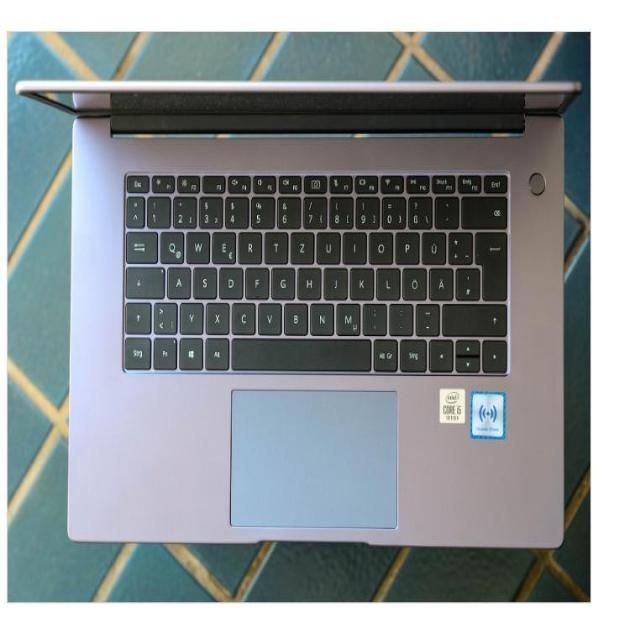0: (380, 192, 404, 226)
1: (145, 192, 169, 225)
2: (170, 192, 195, 225)
3: (196, 192, 221, 226)
4: (223, 193, 247, 225)
5: (249, 193, 273, 226)
6: (275, 193, 299, 226)
7: (301, 193, 325, 226)
8: (327, 192, 351, 226)
9: (353, 192, 378, 226)
a: (165, 263, 189, 296)
accent: (432, 192, 457, 226)
ae: (427, 264, 452, 298)
alt-left: (203, 335, 228, 368)
altgr-right: (372, 335, 397, 369)
b: (282, 300, 307, 333)
c: (230, 298, 255, 333)
caret: (124, 192, 144, 225)
comma: (361, 300, 386, 333)
d: (217, 263, 241, 297)
del: (459, 192, 505, 226)
e: (210, 227, 234, 262)
enter: (473, 228, 506, 299)
f: (244, 264, 267, 296)
g: (269, 264, 293, 297)
h: (295, 263, 320, 297)
hash: (454, 264, 479, 297)
i: (341, 227, 365, 262)
j: (321, 264, 346, 297)
k: (348, 264, 372, 297)
keyboard: (117, 167, 518, 379)
l: (374, 264, 398, 297)
less: (151, 299, 176, 332)
m: (334, 300, 359, 333)
minus: (413, 300, 438, 333)
n: (308, 300, 333, 333)
o: (367, 227, 392, 262)
oe: (400, 264, 425, 298)
p: (393, 227, 417, 262)
plus: (446, 227, 470, 262)
point: (387, 300, 412, 333)
q: (158, 228, 183, 261)
r: (236, 227, 260, 262)
s: (191, 263, 215, 296)
shift-left: (123, 299, 150, 332)
shift-lock: (123, 263, 163, 296)
shift-right: (440, 300, 505, 333)
space: (229, 335, 370, 368)
ss: (406, 193, 431, 226)
strg-left: (122, 333, 149, 368)
strg-right: (397, 335, 425, 369)
t: (262, 228, 286, 261)
tab: (124, 228, 157, 261)
u: (314, 227, 339, 262)
ue: (419, 227, 444, 263)
v: (256, 300, 281, 333)
w: (184, 228, 208, 261)
x: (204, 299, 229, 332)
y: (178, 299, 202, 332)
z: (288, 227, 313, 262)
